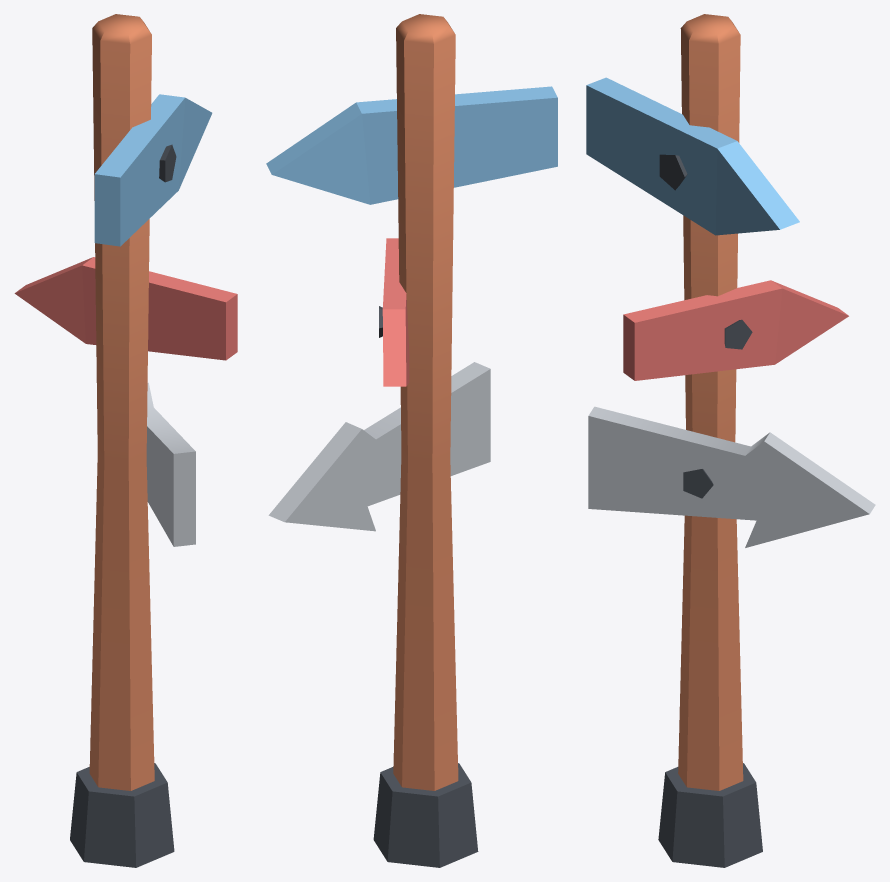
Rendered from placa_indicativa_pacote.glb.
The picture shows the model from 3 angles, left to right: view 1: azimuth 30°, elevation 25°; view 2: azimuth 150°, elevation 25°; view 3: azimuth 270°, elevation 25°; orthographic projection.
Parts seen in each view (by area): view 1: placa_indicativa_pacote; view 2: placa_indicativa_pacote; view 3: placa_indicativa_pacote.
Boxes of the visible parts, x1,y1,x2,y2 form: placa_indicativa_pacote: (14,14,237,867); placa_indicativa_pacote: (266,14,557,867); placa_indicativa_pacote: (586,14,875,867).
Size of the model in its own units: 0.6239 by 2.39 by 0.7636.
1 material, 1 textured.
